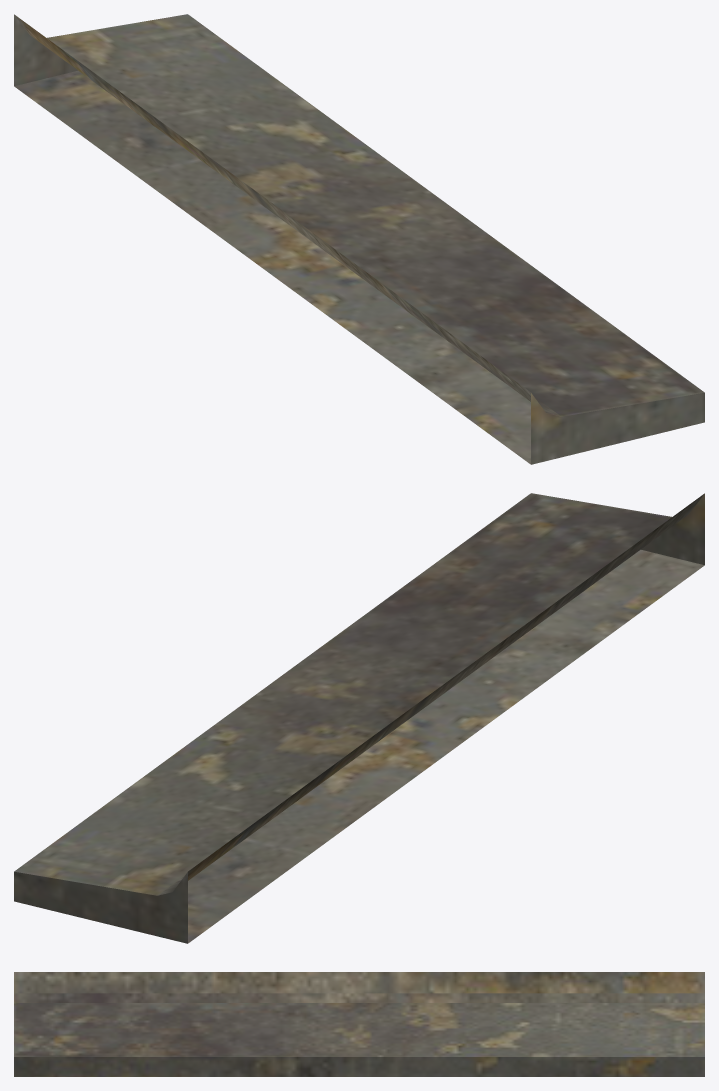
Rendered from WindowTop_L.FBX.
The picture shows the model from 3 angles, top to bottom: view 1: azimuth 30°, elevation 25°; view 2: azimuth 150°, elevation 25°; view 3: azimuth 270°, elevation 25°; orthographic projection. The views are drawn at different scales.
Parts seen in each view (by area): view 1: WindowTop_L; view 2: WindowTop_L; view 3: WindowTop_L.
Part boxes in pixels (x1,y1,x2,y2): WindowTop_L: (14,14,704,464); WindowTop_L: (14,493,704,943); WindowTop_L: (14,972,704,1076).
Size of the model in its own units: 80.93 by 32.1 by 417.
